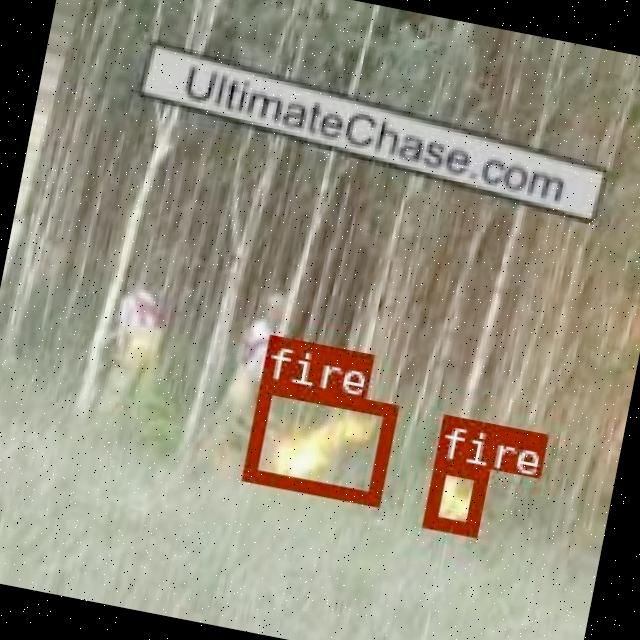fire: (240, 378, 396, 504), (420, 457, 486, 533)
